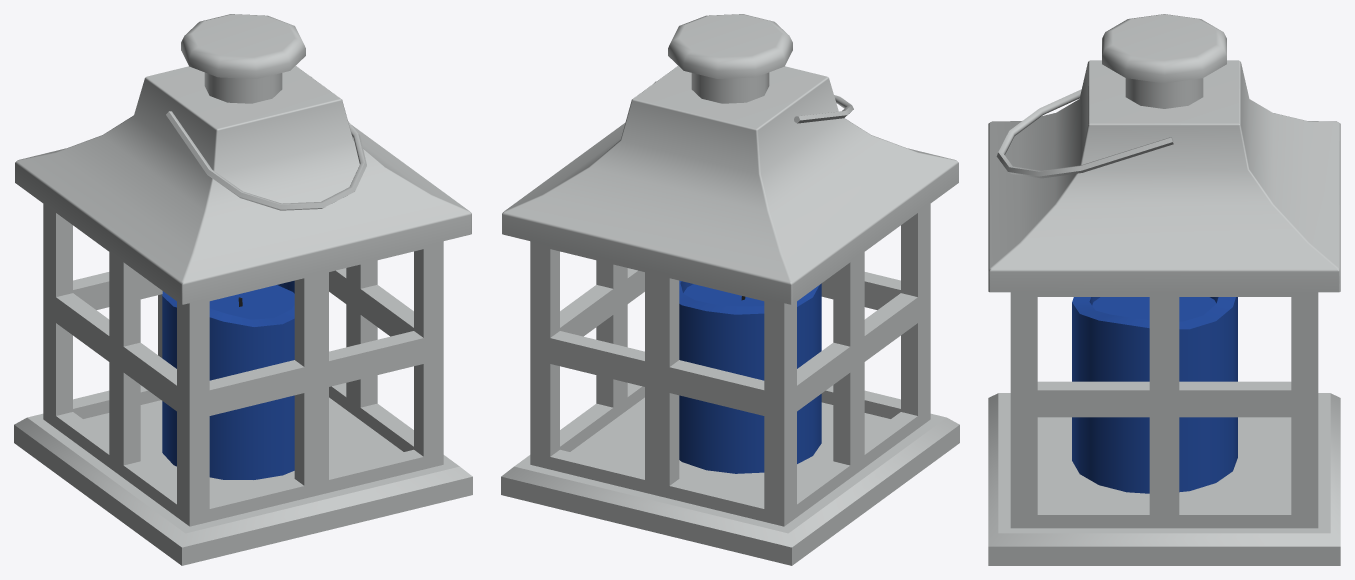
File: candle_05.fbx
3 views of the same model, side by side, from view 1: azimuth 30°, elevation 25°; view 2: azimuth 150°, elevation 25°; view 3: azimuth 270°, elevation 25° (orthographic). The views are drawn at different scales.
Parts seen in each view (by area): view 1: candle 05; view 2: candle 05; view 3: candle 05.
Part boxes in pixels (bbox=[...]): candle 05: bbox=[14, 14, 472, 565]; candle 05: bbox=[501, 14, 959, 565]; candle 05: bbox=[988, 14, 1340, 565].
Bounding box in the file's own units: 17.07 × 24.29 × 17.07.
